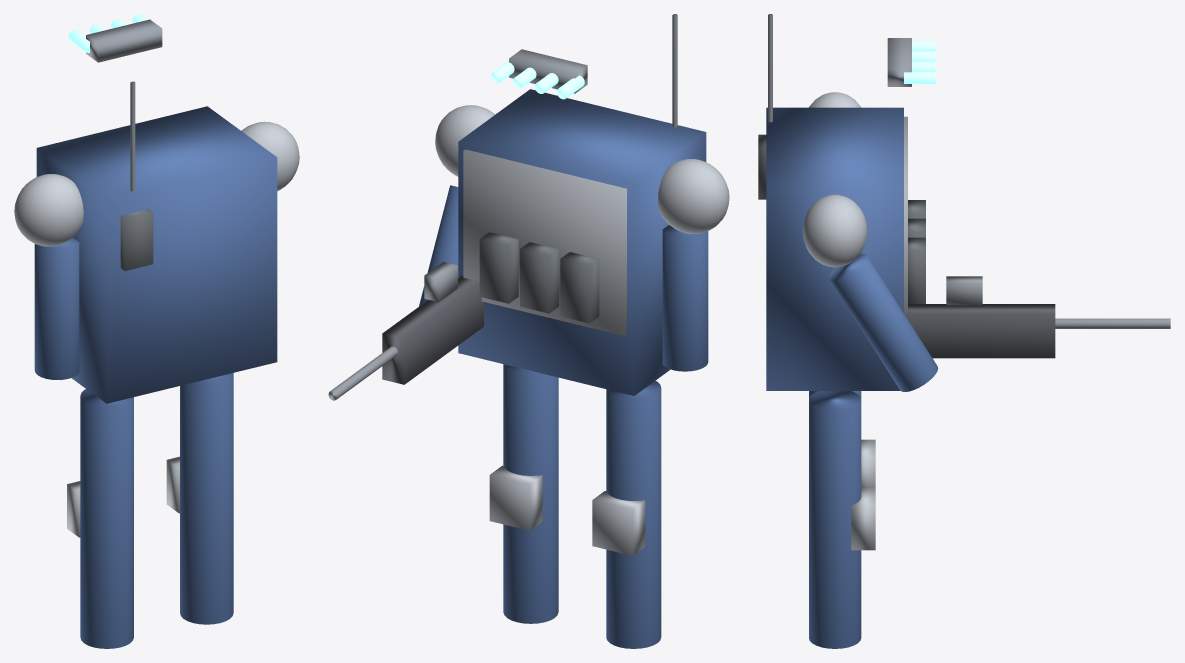
The model's file is Guard_Frontline_Sentinel.fbx.
3 renders of one model, left to right at view 1: azimuth 30°, elevation 25°; view 2: azimuth 150°, elevation 25°; view 3: azimuth 270°, elevation 25°, orthographic. The views are drawn at different scales.
Visible parts, largest first — view 1: Torso_Navy, Leg_L, Leg_R, Arm_L, Pauldron_L, NVG_Mount, Radio_Body, Pauldron_R, Knee_L, Knee_R, Radio_Antenna; view 2: Torso_Navy, Chest_PlateCarrier, Leg_L, Leg_R, Arm_L, Guard_Carbine, Pauldron_L, Knee_R, Knee_L, Mag_Pouch_1, Mag_Pouch_3, Mag_Pouch_2 (+6 smaller); view 3: Torso_Navy, Leg_R, Guard_Carbine, Arm_R, Pauldron_R, Knee_R, Carbine_Barrel, Mag_Pouch_3, NVG_Mount, Holo_Optic, Chest_PlateCarrier, Knee_L (+2 smaller).
Part boxes in pixels (<box>): Torso_Navy: <box>36,106,277,403</box>; Leg_L: <box>80,389,133,648</box>; Leg_R: <box>180,373,233,624</box>; Arm_L: <box>34,238,79,379</box>; Pauldron_L: <box>14,174,83,246</box>; NVG_Mount: <box>86,19,162,62</box>; Radio_Body: <box>120,209,153,270</box>; Pauldron_R: <box>241,121,299,190</box>; Knee_L: <box>67,481,80,537</box>; Knee_R: <box>166,456,179,513</box>; Radio_Antenna: <box>130,81,135,191</box>; Torso_Navy: <box>458,89,706,395</box>; Chest_PlateCarrier: <box>463,149,626,336</box>; Leg_L: <box>606,381,661,648</box>; Leg_R: <box>503,364,558,623</box>; Arm_L: <box>662,225,708,371</box>; Guard_Carbine: <box>382,275,483,384</box>; Pauldron_L: <box>658,159,729,233</box>; Knee_R: <box>489,465,542,530</box>; Knee_L: <box>592,491,645,555</box>; Mag_Pouch_1: <box>560,252,599,323</box>; Mag_Pouch_3: <box>479,232,518,303</box>; Mag_Pouch_2: <box>520,242,558,313</box>; Torso_Navy: <box>766,107,903,390</box>; Leg_R: <box>809,391,861,648</box>; Guard_Carbine: <box>904,304,1055,358</box>; Arm_R: <box>829,253,938,391</box>; Pauldron_R: <box>802,194,867,267</box>; Knee_R: <box>851,487,875,550</box>; Carbine_Barrel: <box>1055,318,1170,328</box>; Mag_Pouch_3: <box>908,237,925,303</box>; NVG_Mount: <box>887,38,911,86</box>; Holo_Optic: <box>946,276,982,305</box>; Chest_PlateCarrier: <box>904,116,907,312</box>; Knee_L: <box>861,439,875,487</box>.
Bounding box in the file's own units: 78 × 156 × 102.
